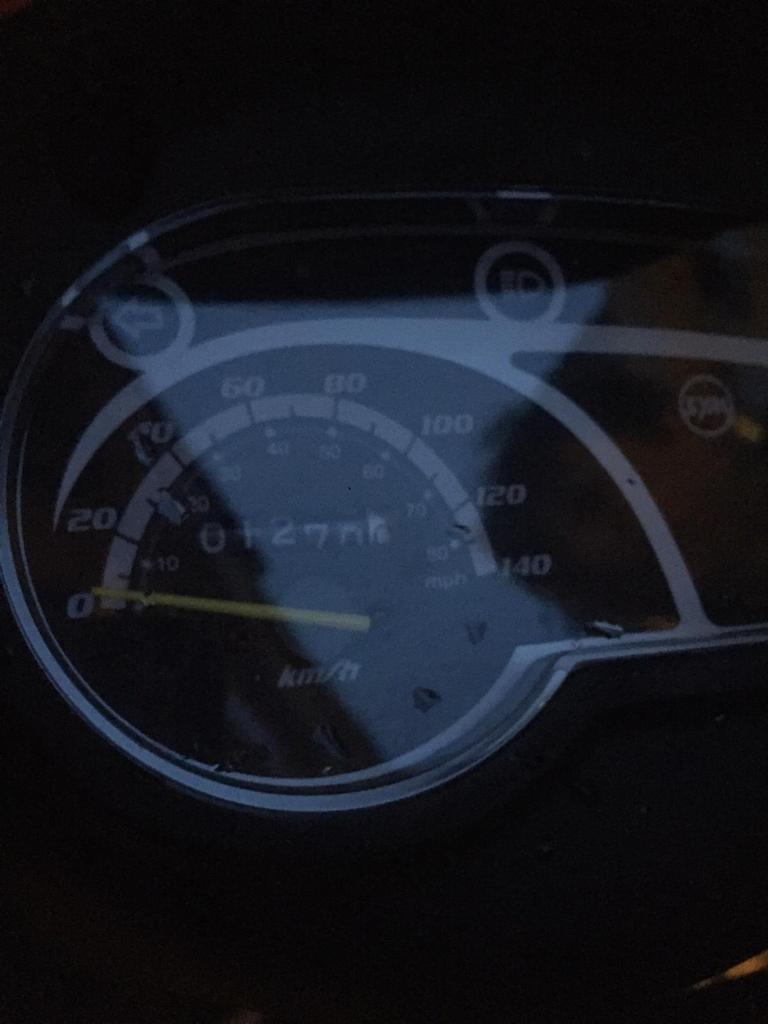0: (199, 518, 230, 551), (340, 521, 366, 551), (373, 520, 395, 552)
1: (240, 517, 258, 550)
2: (266, 515, 297, 547)
7: (302, 521, 332, 550)
odometer: (191, 513, 397, 553)
